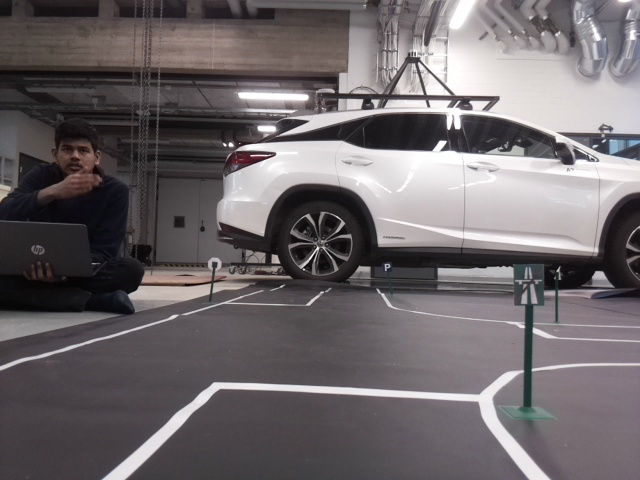HighwayExit: (513, 265, 542, 304)
